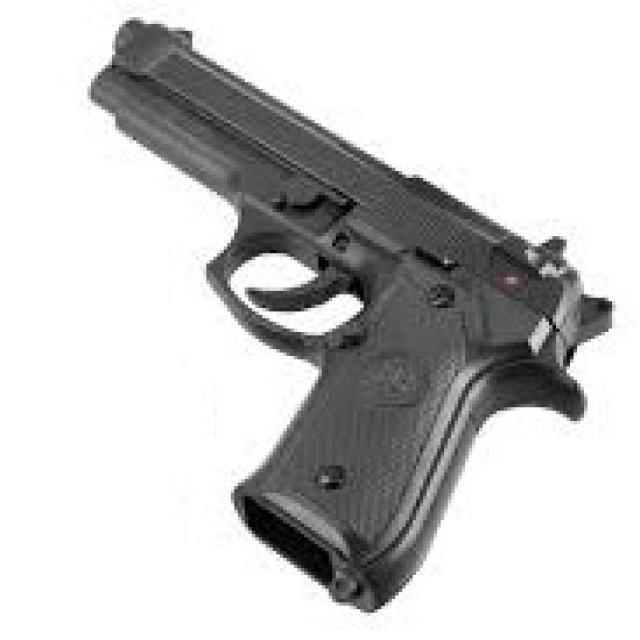pistol: (90, 11, 628, 617)
